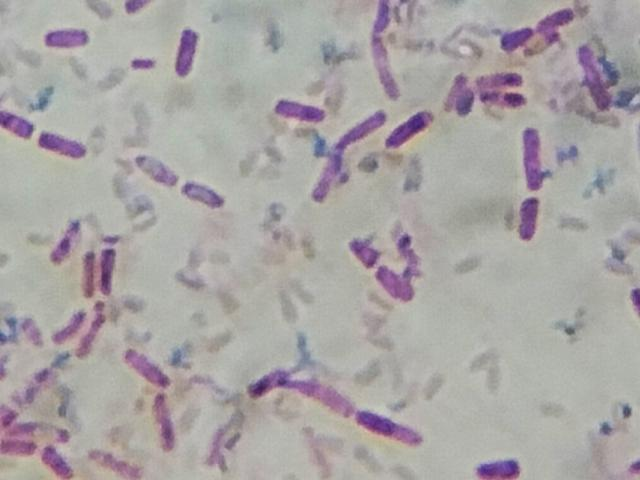E. coli: (368, 4, 404, 100), (358, 408, 422, 447), (578, 45, 611, 110), (389, 101, 432, 149), (123, 344, 173, 384), (277, 92, 329, 128), (149, 394, 182, 450), (132, 149, 180, 187), (298, 378, 350, 412), (336, 110, 386, 141), (184, 177, 227, 212), (38, 128, 83, 160), (475, 66, 528, 93), (97, 235, 120, 297), (523, 128, 546, 190), (478, 448, 522, 479), (316, 150, 340, 206), (176, 26, 202, 75), (50, 218, 74, 267), (50, 307, 82, 342), (378, 262, 406, 299), (253, 366, 290, 394), (42, 445, 71, 480), (44, 26, 91, 46), (3, 102, 29, 138), (84, 307, 101, 358), (535, 5, 574, 27), (487, 94, 525, 114), (500, 27, 533, 50), (83, 250, 98, 298), (129, 52, 158, 74), (348, 237, 370, 266), (0, 437, 35, 455), (446, 67, 459, 109), (463, 88, 476, 117), (0, 404, 13, 425)
